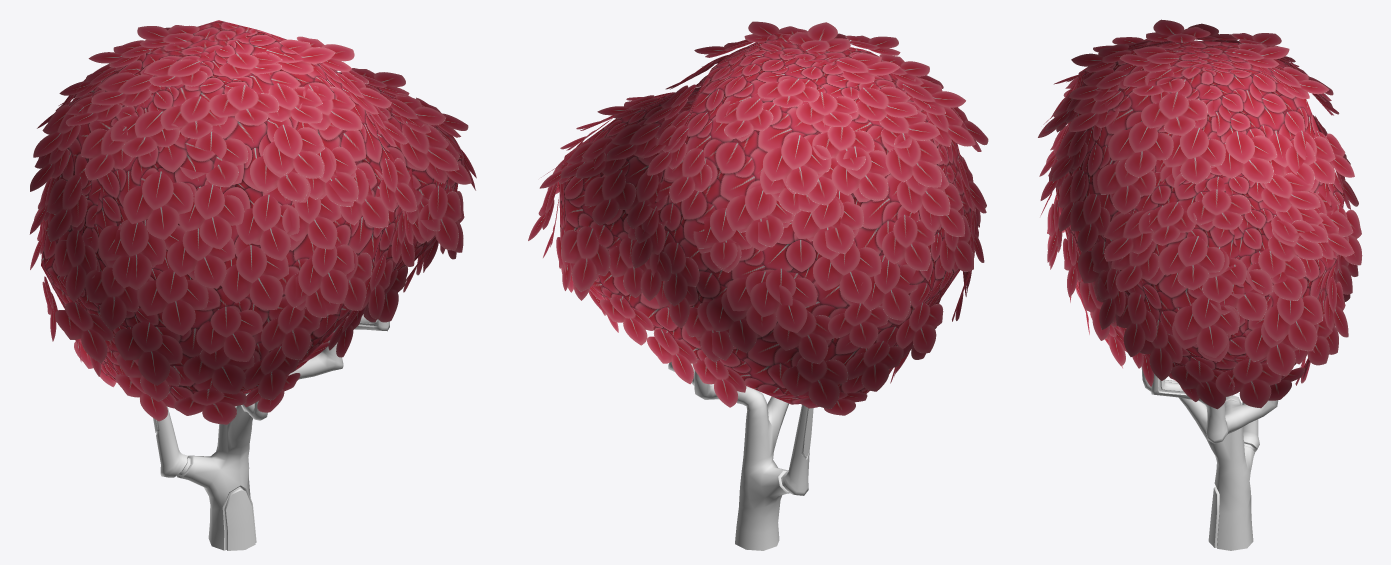
Rendered from SM_Tree3_KN.fbx.
3 views of the same model, side by side, from view 1: azimuth 30°, elevation 25°; view 2: azimuth 150°, elevation 25°; view 3: azimuth 270°, elevation 25° (orthographic). The views are drawn at different scales.
Visible parts, largest first — view 1: Cube.004, Plane; view 2: Cube.004, Plane; view 3: Cube.004, Plane.
Boxes of the visible parts, x1,y1,x2,y2 form: Cube.004: [29, 20, 476, 424]; Plane: [153, 314, 389, 550]; Cube.004: [528, 21, 988, 415]; Plane: [668, 358, 813, 550]; Cube.004: [1038, 19, 1362, 409]; Plane: [1141, 366, 1278, 550].
Bounding box in the file's own units: 856 × 950 × 624.
